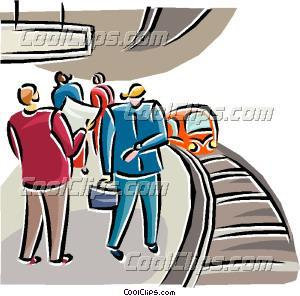person: (2, 80, 89, 268), (95, 79, 171, 265)
train: (158, 102, 224, 157)
